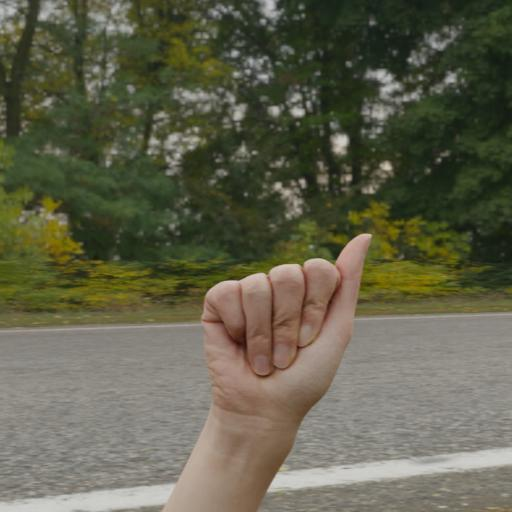A: (190, 224, 377, 442)
